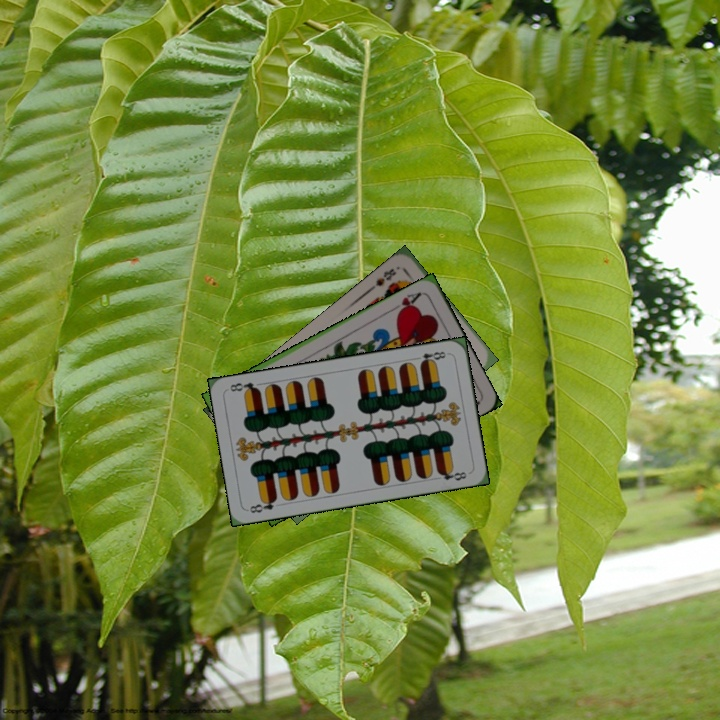E8: (411, 347, 451, 367), (245, 494, 279, 516)
HA: (393, 288, 424, 317)
S8: (367, 264, 399, 292)
